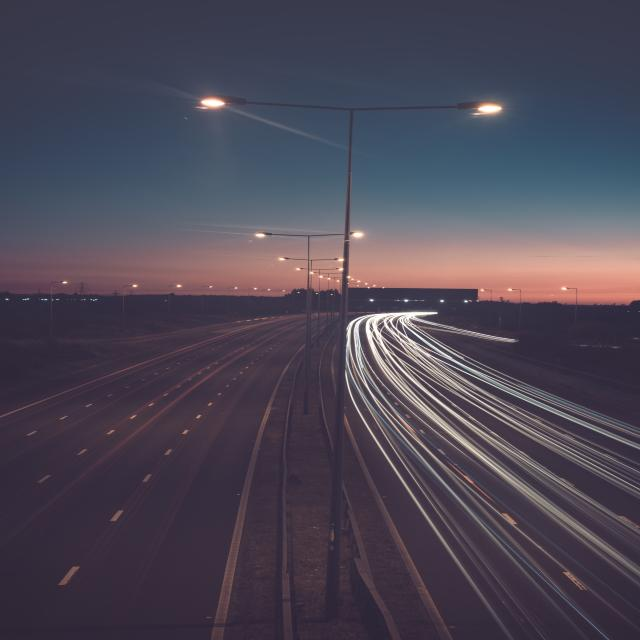Street Light: (199, 90, 504, 637), (255, 232, 365, 416), (278, 256, 345, 370), (50, 281, 68, 340), (122, 284, 139, 333), (168, 284, 183, 330), (509, 289, 522, 336), (200, 286, 214, 322), (481, 289, 493, 327), (226, 287, 238, 319), (248, 288, 256, 316)
